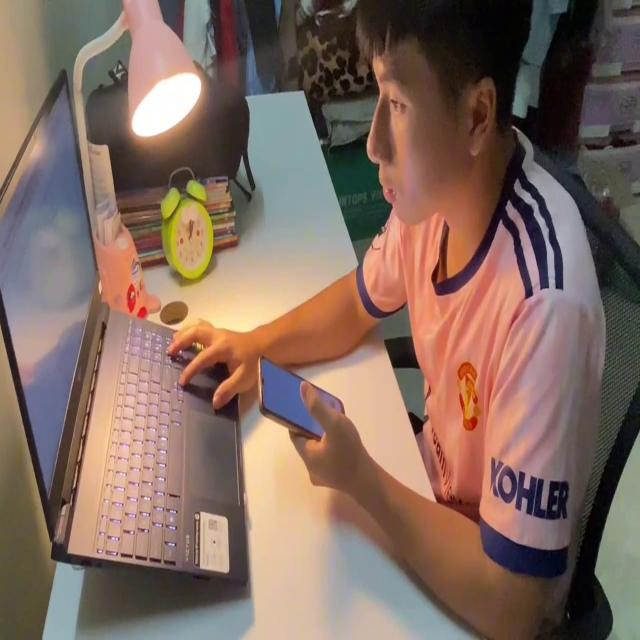laptop: (0, 64, 252, 596)
phone: (256, 346, 349, 441)
student: (163, 1, 607, 640)
